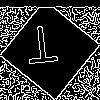T: (25, 25, 60, 73)
